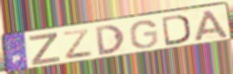A: (193, 9, 231, 42)
D: (93, 23, 126, 57), (160, 13, 192, 47)
G: (129, 19, 160, 50)
Z: (27, 32, 62, 67), (61, 28, 95, 61)
